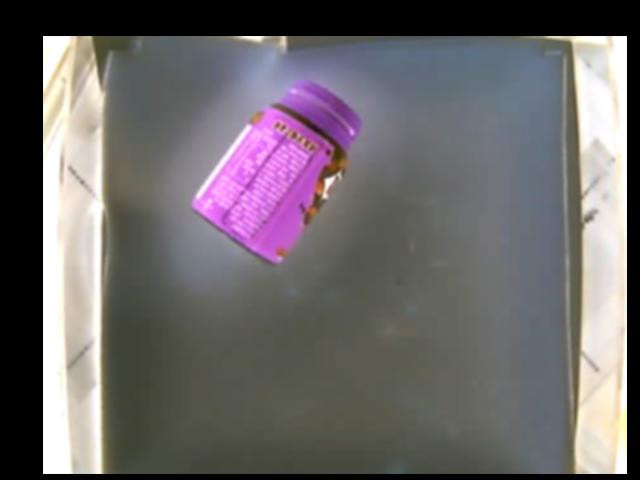Bottle: (188, 77, 365, 265)
